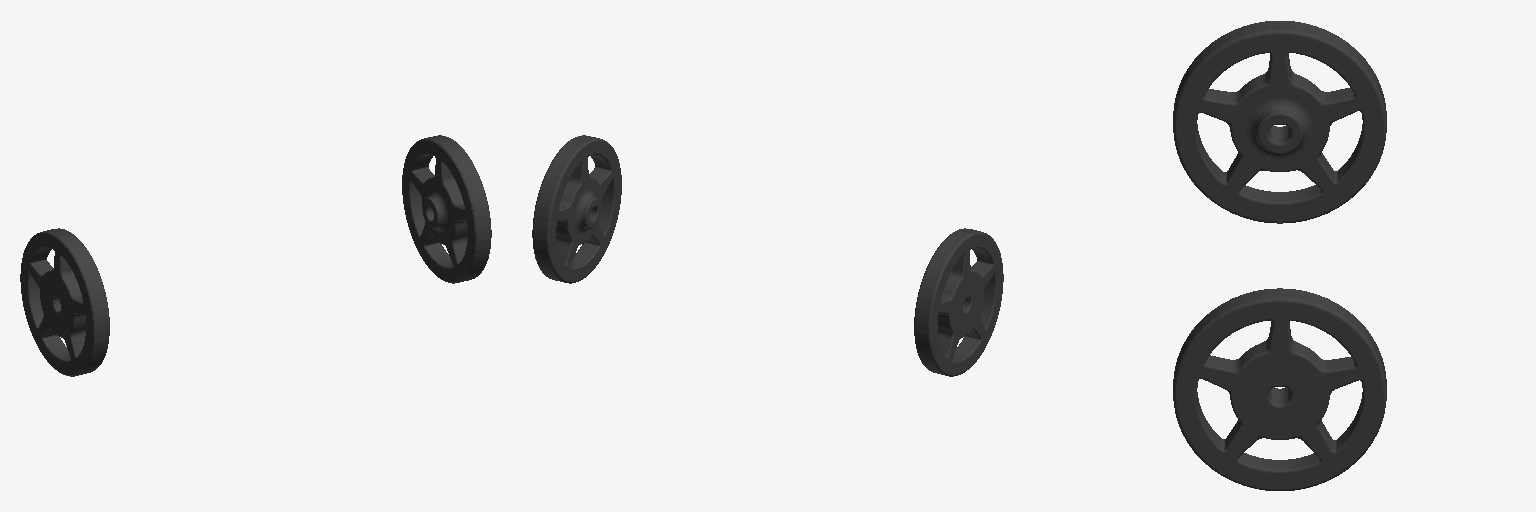
robot.urdf — CLM-EnsambleColmibot:
<?xml version="1.0" encoding="utf-8"?>
<!-- URDF creado por SolidWorks URDF Exporter y adaptado a ROS 2 / Gazebo Harmonic -->
<robot name="CLM-EnsambleColmibot">
  <link name="base_link">
    <inertial>
      <origin xyz="0.00041109 -0.0066161 0.037972" rpy="0 0 0" />
      <mass value="2.2668" />
      <inertia ixx="0.0013251" ixy="2.9877E-06" ixz="-9.5938E-07" iyy="0.0017147" iyz="1.544E-06" izz="0.0027926" />
    </inertial>
    <visual>
      <origin xyz="0 0 0" rpy="0 0 0" />
      <geometry>
        <mesh filename="package://robot_description/meshes/base_link.STL" />
      </geometry>
      <material name="">
        <color rgba="0.69412 0.098039 0.098039 1" />
      </material>
    </visual>
    <collision>
      <origin xyz="0 0 0.0769" rpy="0 0 0" />
      <geometry>
        <cylinder radius="0.1" length="0.1537" />
      </geometry>
    </collision>
    <collision name="caster_front_collision">
      <origin xyz="0 0.08 0" rpy="0 0 0" />
      <geometry>
        <sphere radius="0.0135" />
      </geometry>
    </collision>
    <collision name="caster_rear_collision">
      <origin xyz="0 -0.08 0" rpy="0 0 0" />
      <geometry>
        <sphere radius="0.0135" />
      </geometry>
    </collision>
  </link>
  <link name="LeftLink">
    <inertial>
      <origin xyz="-0.0078228 0 0" rpy="-3.1416 0 1.5708" />
      <mass value="0.019358" />
      <inertia ixx="4.6755E-06" ixy="1.0095E-15" ixz="-3.9645E-18" iyy="9.1143E-06" iyz="1.0881E-10" izz="4.6754E-06" />
    </inertial>
    <visual>
      <origin xyz="0 0 0" rpy="-3.1416 0 1.5708" />
      <geometry>
        <mesh filename="package://robot_description/meshes/LeftLink.STL" />
      </geometry>
      <material name="">
        <color rgba="0.29804 0.29804 0.29804 1" />
      </material>
    </visual>
    <collision>
      <origin xyz="-0.006 0 0" rpy="0 1.5707963 0" />
      <geometry>
        <cylinder radius="0.03" length="0.012" />
      </geometry>
    </collision>
  </link>
  <joint name="LeftW" type="continuous">
    <origin xyz="-0.081048 0 0.0165" rpy="0 0 0" />
    <parent link="base_link" />
    <child link="LeftLink" />
    <axis xyz="-1 0 0" />
  </joint>
  <link name="RightWheel">
    <inertial>
      <origin xyz="0.0078228 0 0" rpy="3.1416 0 -1.5708" />
      <mass value="0.019358" />
      <inertia ixx="4.6755E-06" ixy="1.0097E-15" ixz="-4.6805E-18" iyy="9.1143E-06" iyz="1.0881E-10" izz="4.6754E-06" />
    </inertial>
    <visual>
      <origin xyz="0 0 0" rpy="3.1416 0 -1.5708" />
      <geometry>
        <mesh filename="package://robot_description/meshes/RightWheel.STL" />
      </geometry>
      <material name="">
        <color rgba="0.29804 0.29804 0.29804 1" />
      </material>
    </visual>
    <collision>
      <origin xyz="0.006 0 0" rpy="0 1.5707963 0" />
      <geometry>
        <cylinder radius="0.03" length="0.012" />
      </geometry>
    </collision>
  </link>
  <joint name="RightW" type="continuous">
    <origin xyz="0.081048 0 0.0165" rpy="0 0 0" />
    <parent link="base_link" />
    <child link="RightWheel" />
    <axis xyz="-1 0 0" />
  </joint>
  <gazebo reference="LeftLink">
    <mu1>1.0</mu1>
    <mu2>1.0</mu2>
    <kp>1000000.0</kp>
    <kd>100.0</kd>
  </gazebo>
  <gazebo reference="RightWheel">
    <mu1>1.0</mu1>
    <mu2>1.0</mu2>
    <kp>1000000.0</kp>
    <kd>100.0</kd>
  </gazebo>
  <gazebo reference="base_link">
    <mu1>0.0</mu1>
    <mu2>0.0</mu2>
  </gazebo>
  <gazebo>
    <plugin filename="gz-sim-diff-drive-system" name="gz::sim::systems::DiffDrive">
      <left_joint>LeftW</left_joint>
      <right_joint>RightW</right_joint>
      <wheel_separation>0.174</wheel_separation>
      <wheel_radius>0.03</wheel_radius>
      <max_linear_acceleration>1.0</max_linear_acceleration>
      <max_angular_acceleration>3.0</max_angular_acceleration>
      <topic>/cmd_vel</topic>
      <odom_topic>/odom</odom_topic>
      <tf_topic>/tf</tf_topic>
      <frame_id>odom</frame_id>
      <child_frame_id>base_link</child_frame_id>
      <odom_publish_frequency>50</odom_publish_frequency>
    </plugin>
    <plugin filename="gz-sim-joint-state-publisher-system" name="gz::sim::systems::JointStatePublisher">
      <topic>/joint_states</topic>
      <joint_name>LeftW</joint_name>
      <joint_name>RightW</joint_name>
    </plugin>
  </gazebo>
</robot>

--- Render facts (derived) ---
3 views of the same robot in one strip: view 1: azimuth 30°, elevation 25°; view 2: azimuth 150°, elevation 25°; view 3: azimuth 270°, elevation 25° (orthographic).
Model CLM-EnsambleColmibot with 3 links and 2 joints (2 continuous), rooted at base_link, posed all joints at 0.
Links seen in each view (by area): view 1: RightWheel, LeftLink; view 2: RightWheel, LeftLink; view 3: LeftLink, RightWheel.
Boxes of the visible links, x1,y1,x2,y2 form: RightWheel: (402,135,491,283); LeftLink: (20,228,109,376); RightWheel: (532,135,621,283); LeftLink: (914,228,1003,376); LeftLink: (1173,21,1386,223); RightWheel: (1173,288,1386,490).
Size in the robot's own frame: 0.1861 by 0.06 by 0.06 metres.
2 mesh visuals loaded from 3 distinct referenced files (2 binary STL); not drawn: 1 (reference not matched to a file when rendering).
